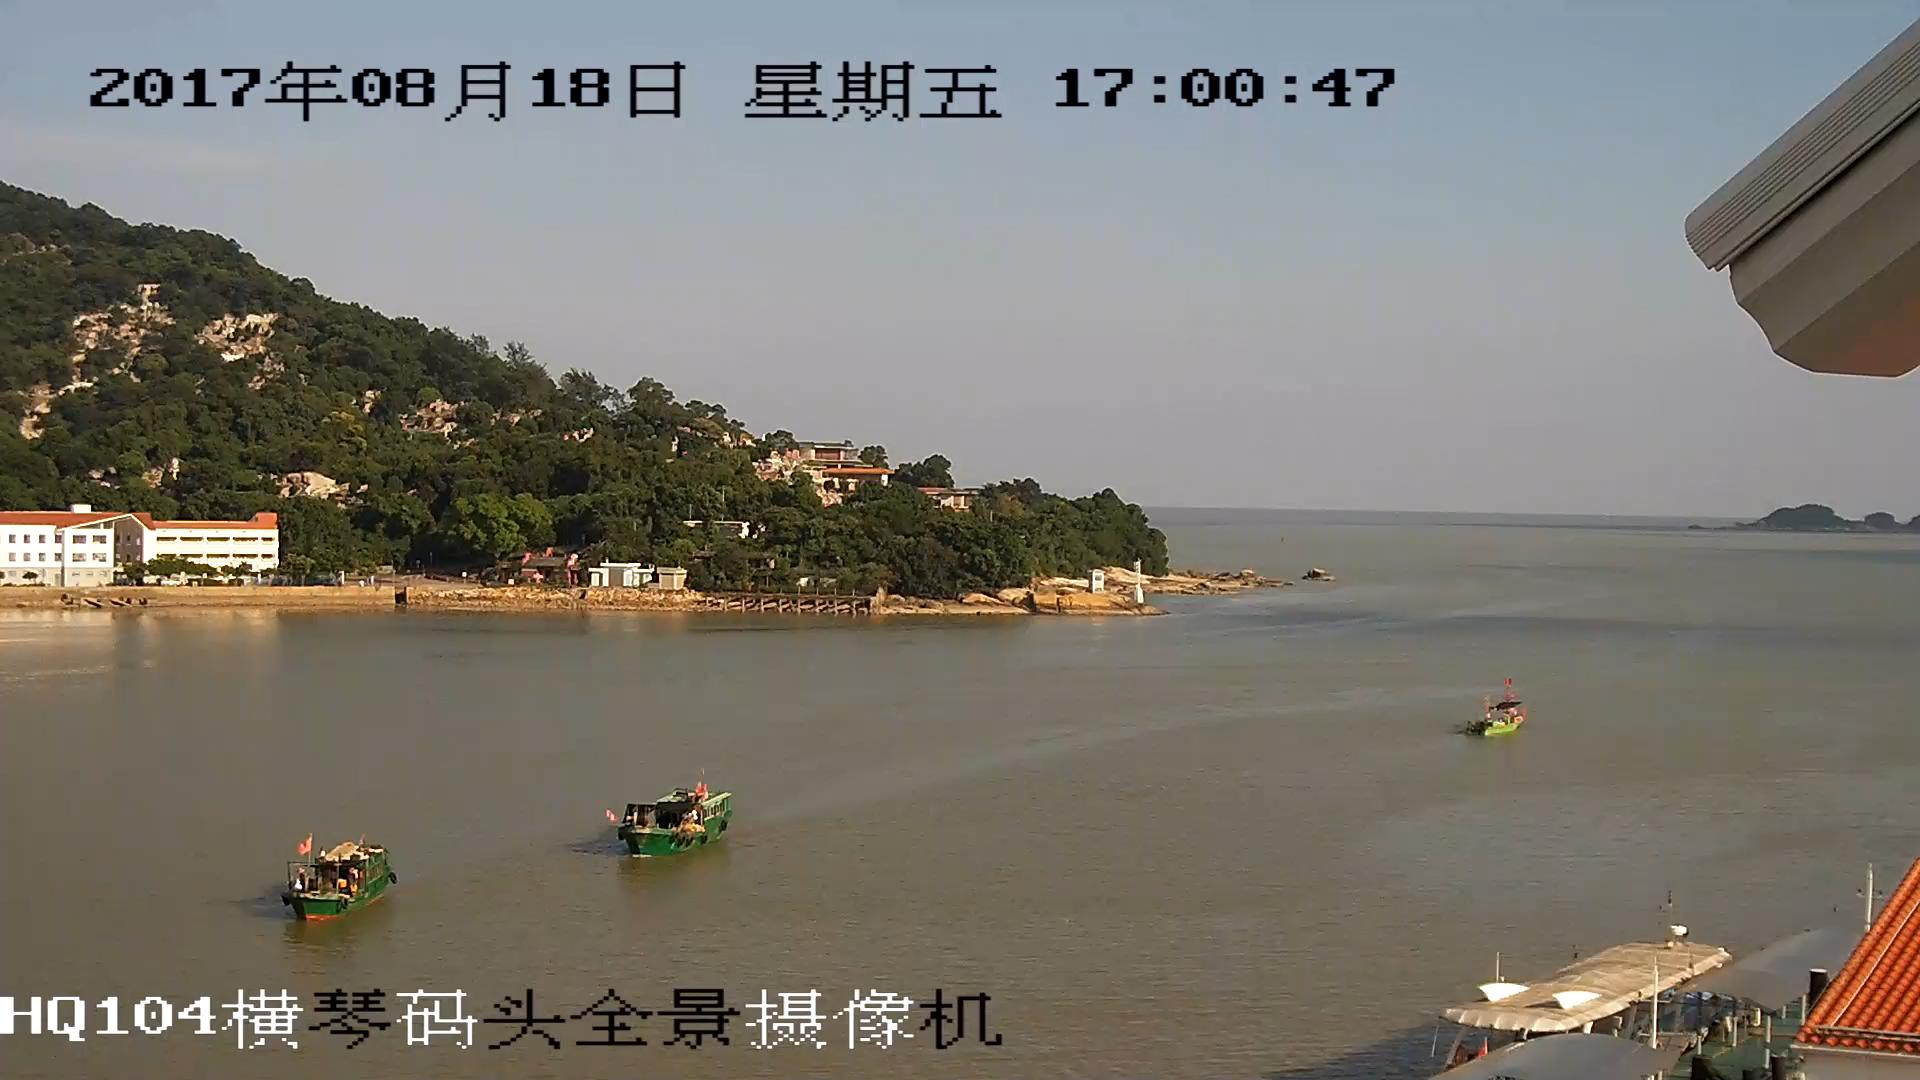fishing boat: (291, 838, 395, 919), (618, 785, 732, 854), (1470, 704, 1525, 735)
